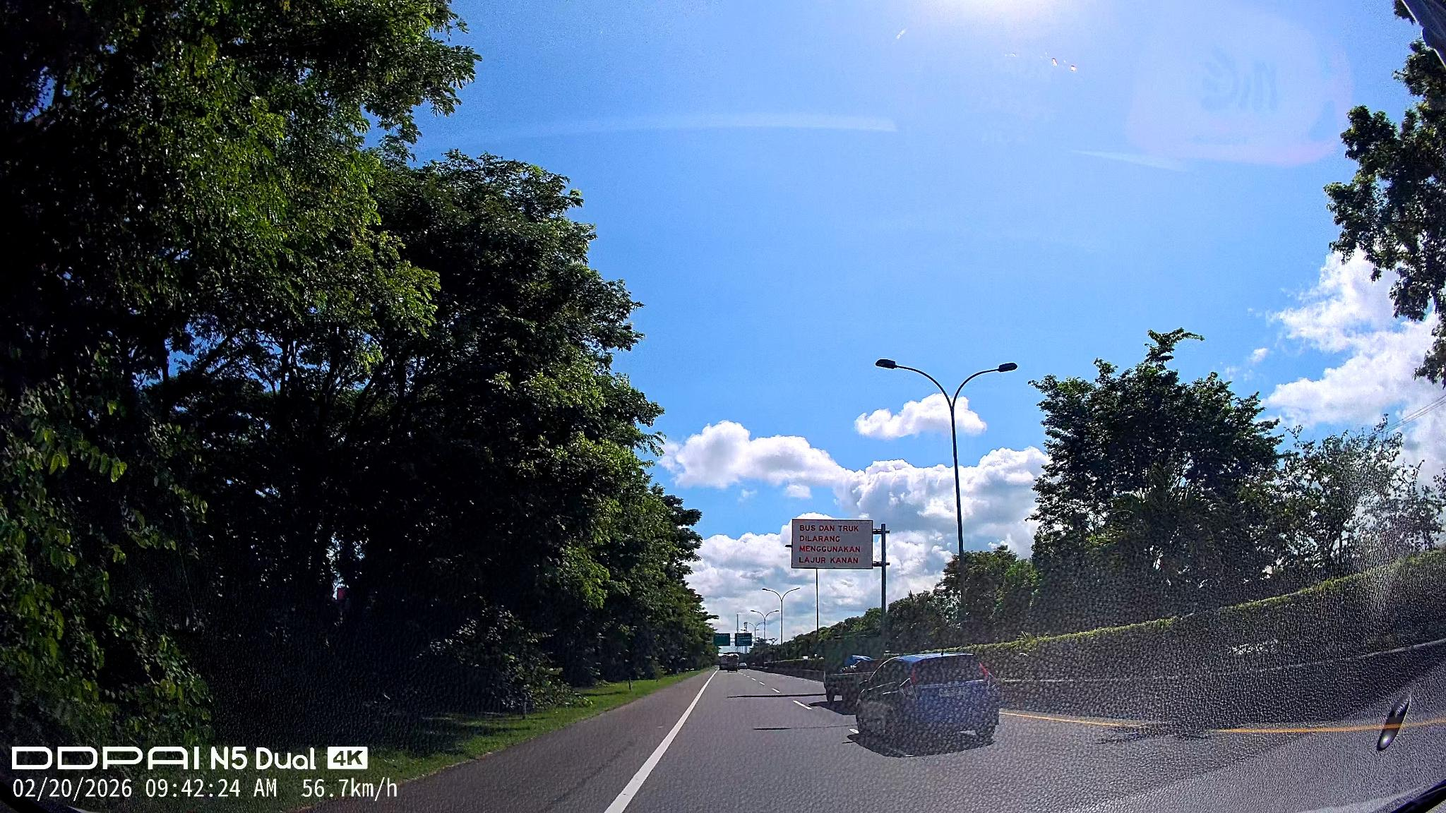rambu_teks: (791, 518, 874, 569)
